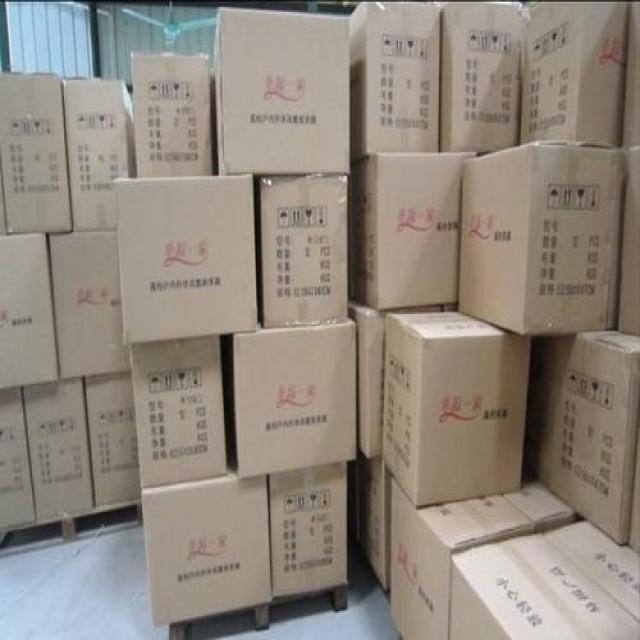Carton: (362, 0, 625, 503), (0, 49, 257, 391), (234, 176, 353, 473), (0, 372, 136, 531), (451, 529, 637, 638), (221, 9, 343, 171), (535, 333, 632, 536), (141, 478, 269, 623), (388, 476, 447, 638), (270, 464, 342, 594)
